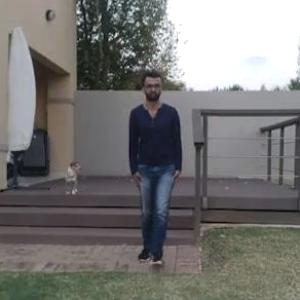follow: (117, 56, 181, 293)
